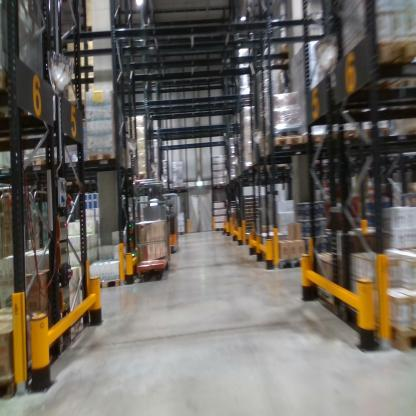pallet: (344, 42, 415, 104), (0, 347, 48, 409), (1, 61, 34, 126), (360, 316, 415, 353), (260, 132, 304, 160), (89, 268, 129, 298), (325, 123, 364, 150), (20, 154, 70, 175), (359, 119, 392, 147), (274, 253, 312, 277), (82, 145, 118, 170), (72, 25, 109, 46), (301, 129, 333, 150), (125, 171, 148, 189)
pallet_truck: (130, 170, 172, 285), (163, 185, 185, 264)
